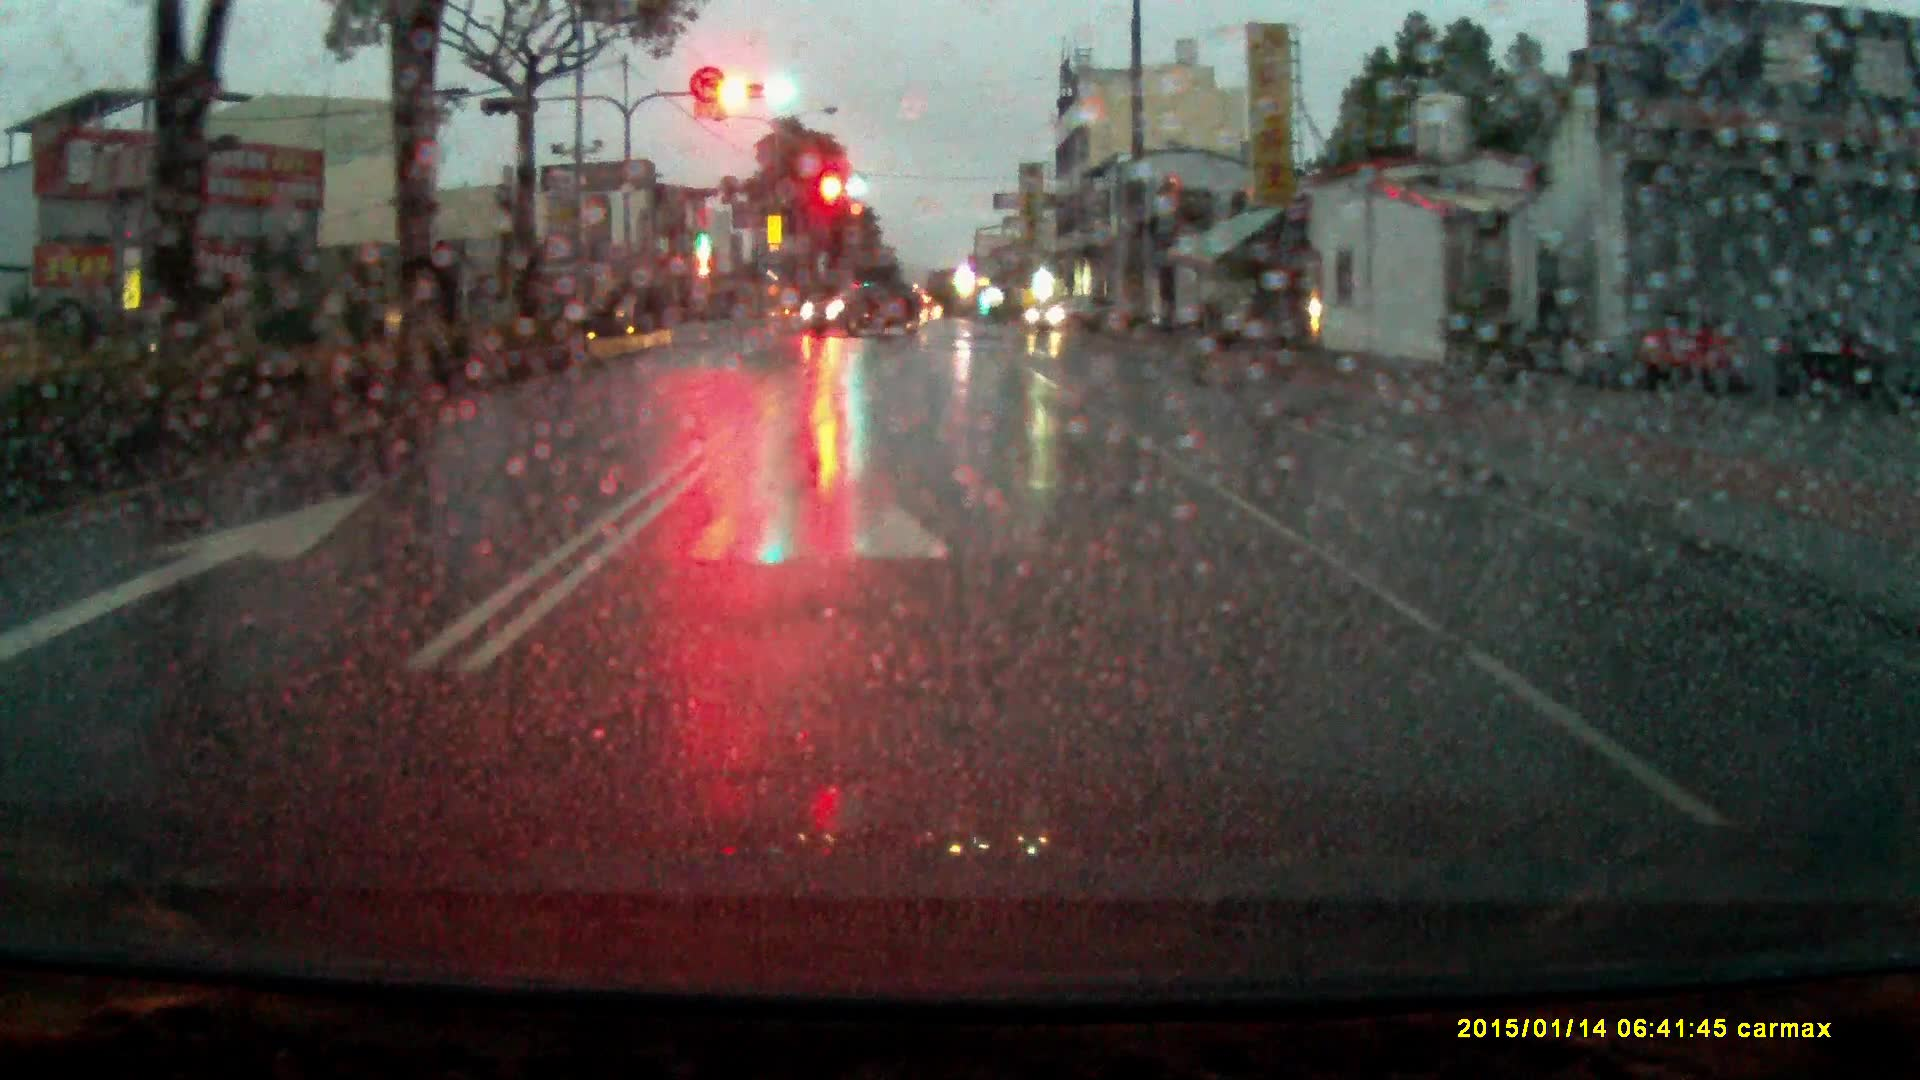vehicle: (798, 277, 934, 339), (1029, 290, 1131, 342)
